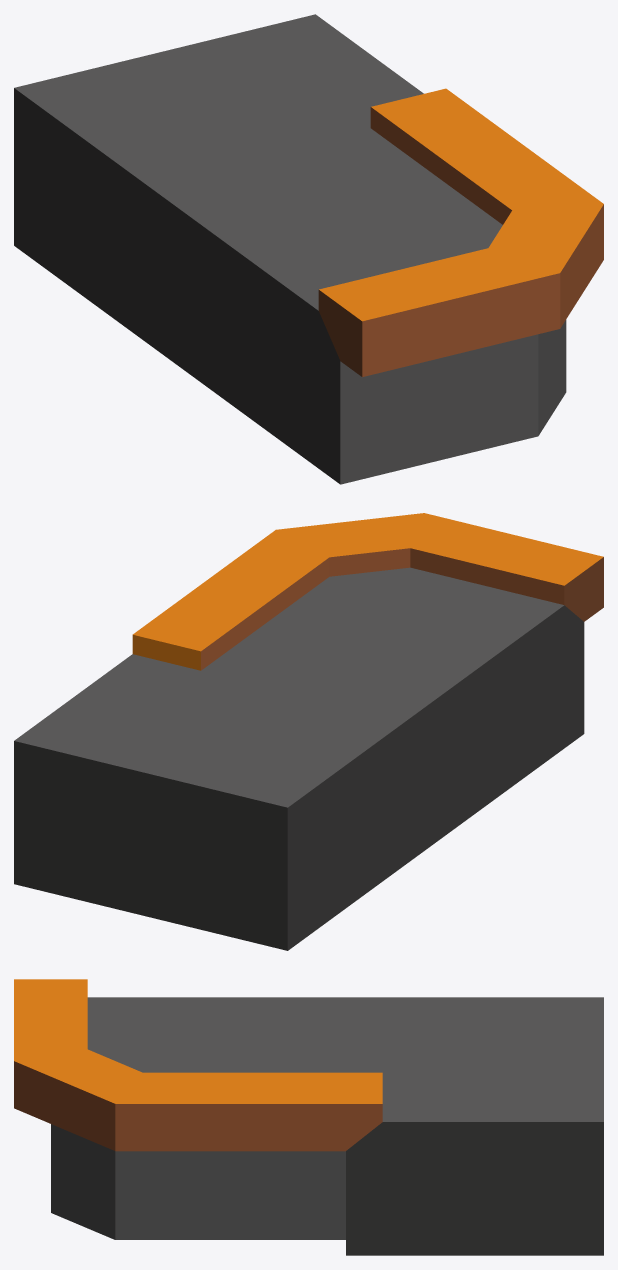
The model's file is COSMIC_F_Perimeter_1U_90_Outer_3.fbx.
3 renders of one model, top to bottom at view 1: azimuth 30°, elevation 25°; view 2: azimuth 150°, elevation 25°; view 3: azimuth 270°, elevation 25°, orthographic. The views are drawn at different scales.
Parts seen in each view (by area): view 1: COSMIC_F_Perimeter_1U_90_Outer_3; view 2: COSMIC_F_Perimeter_1U_90_Outer_3; view 3: COSMIC_F_Perimeter_1U_90_Outer_3.
Boxes of the visible parts, x1,y1,x2,y2 form: COSMIC_F_Perimeter_1U_90_Outer_3: [14, 14, 603, 484]; COSMIC_F_Perimeter_1U_90_Outer_3: [14, 513, 603, 950]; COSMIC_F_Perimeter_1U_90_Outer_3: [14, 979, 603, 1255].
Size of the model in its own units: 0.5 by 0.2839 by 1.
